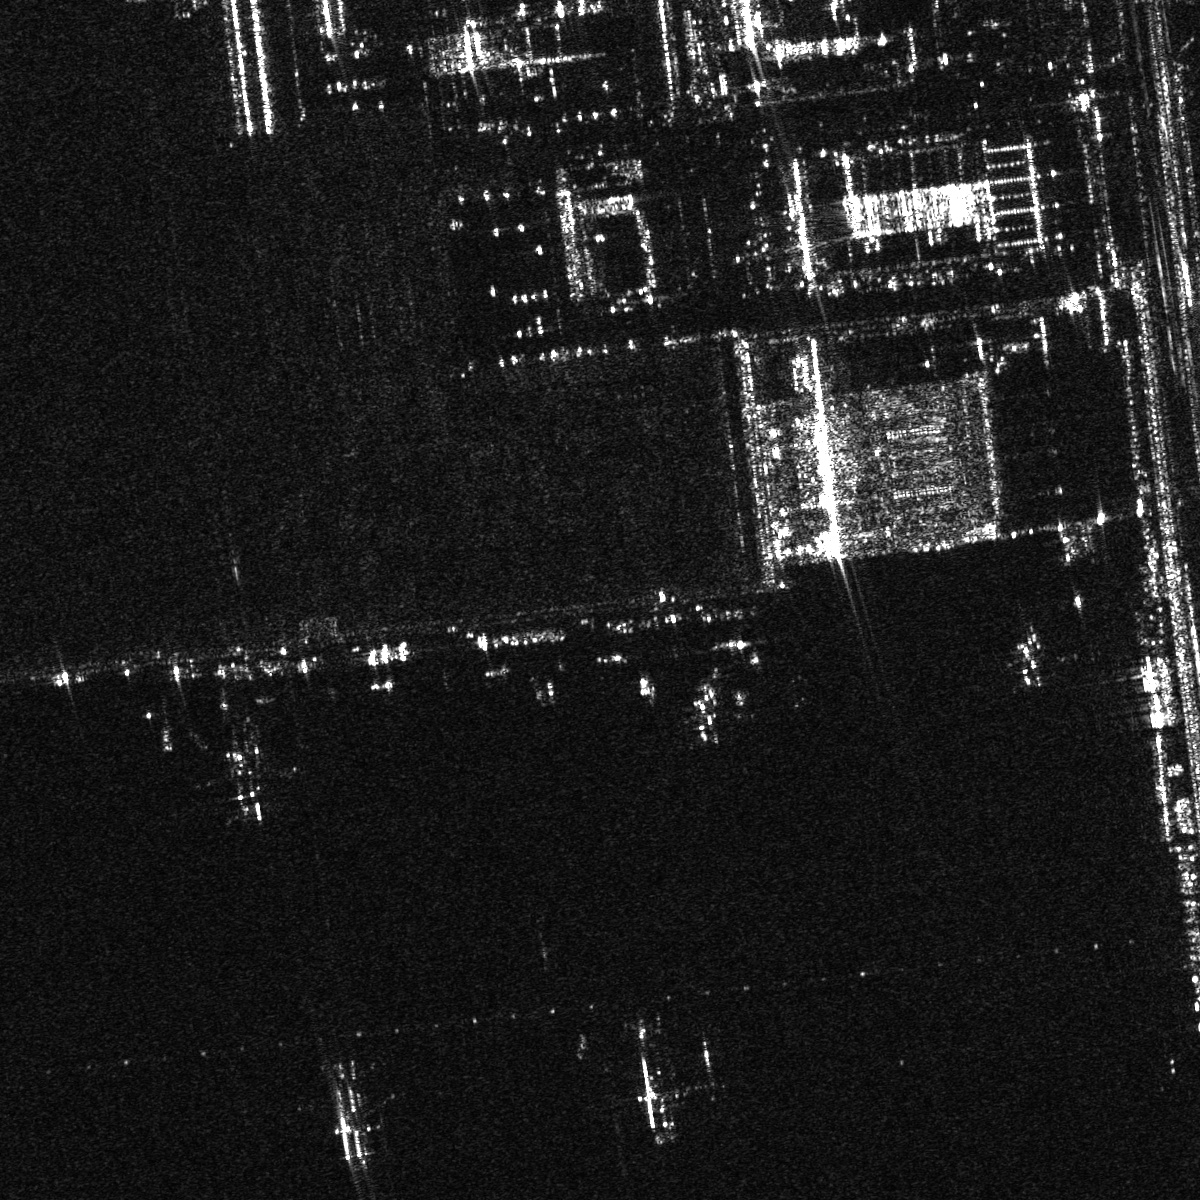A220: (665, 666, 748, 745)
A320/321: (191, 716, 299, 829), (998, 629, 1064, 693)
